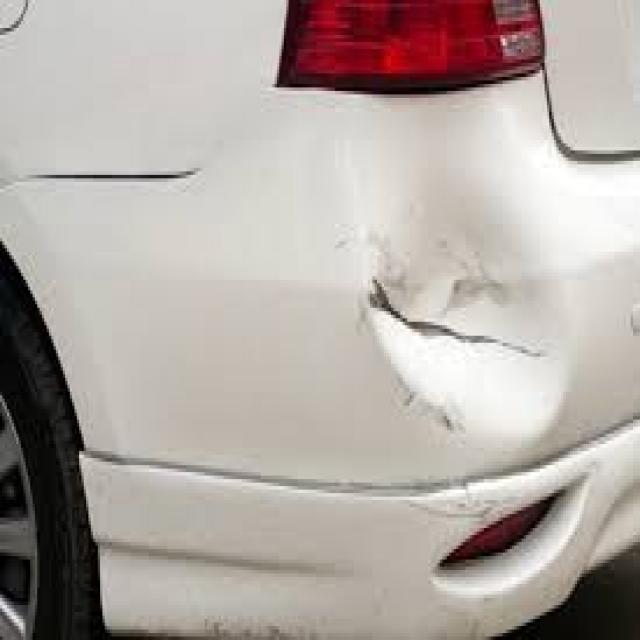minor: (345, 177, 613, 588)
